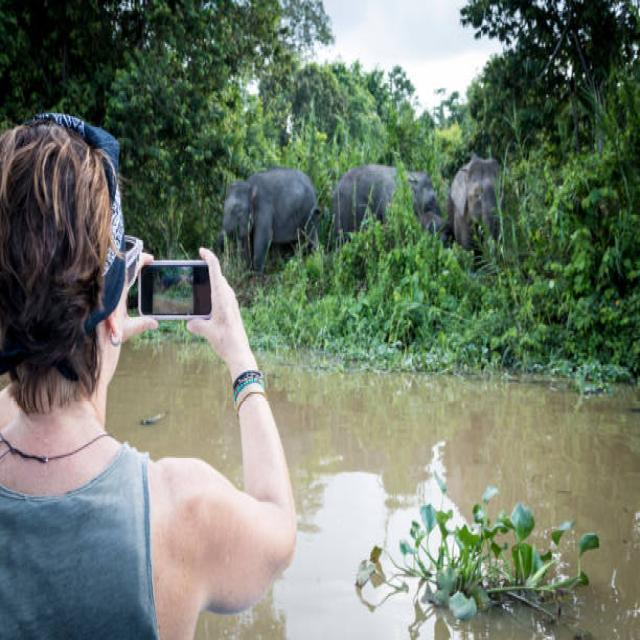Elephant: (212, 152, 323, 287), (442, 130, 518, 310), (337, 170, 401, 300)
